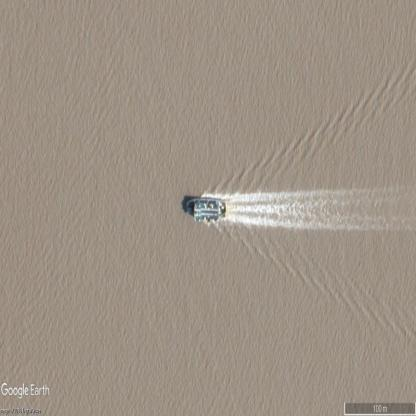ship: (186, 198, 227, 221)
